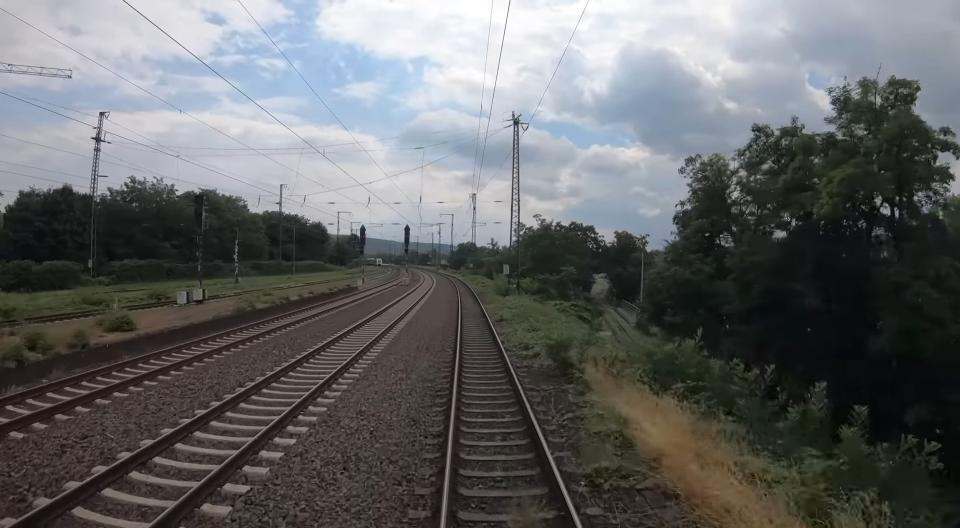Plant: (586, 354, 808, 528), (464, 273, 586, 379), (508, 500, 554, 528)
